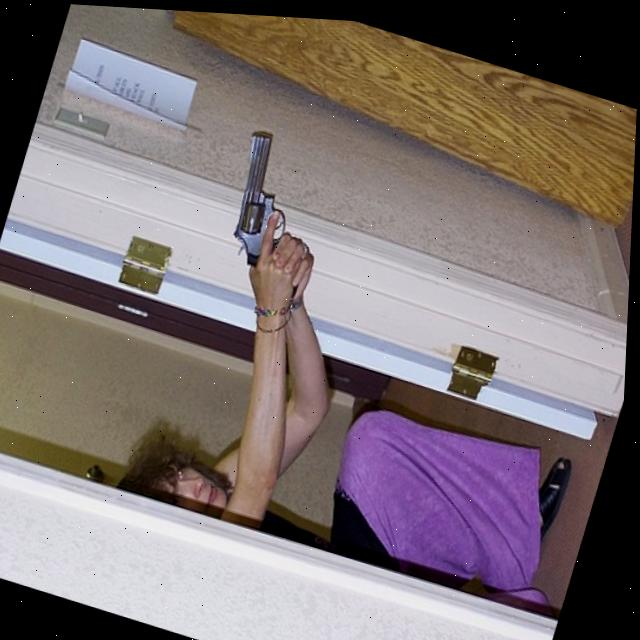pistol: (213, 115, 316, 272)
